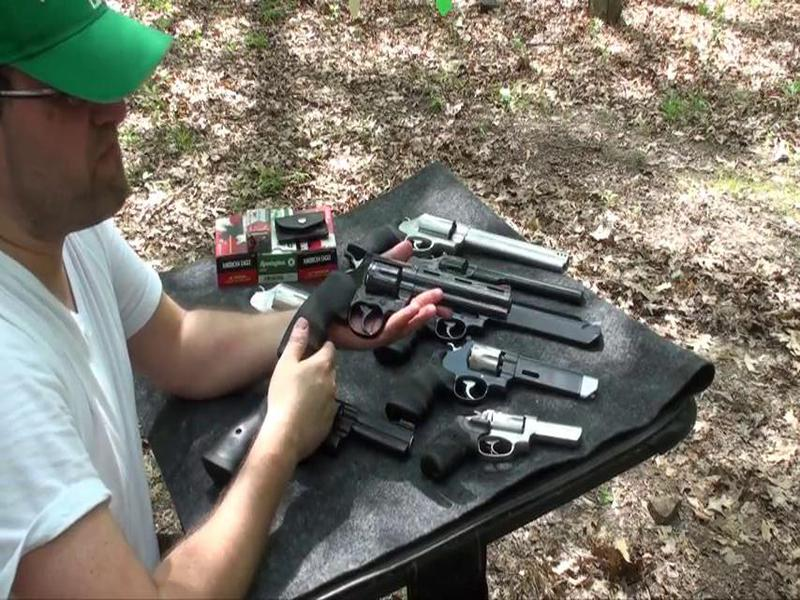Revolver: (242, 244, 513, 383)
